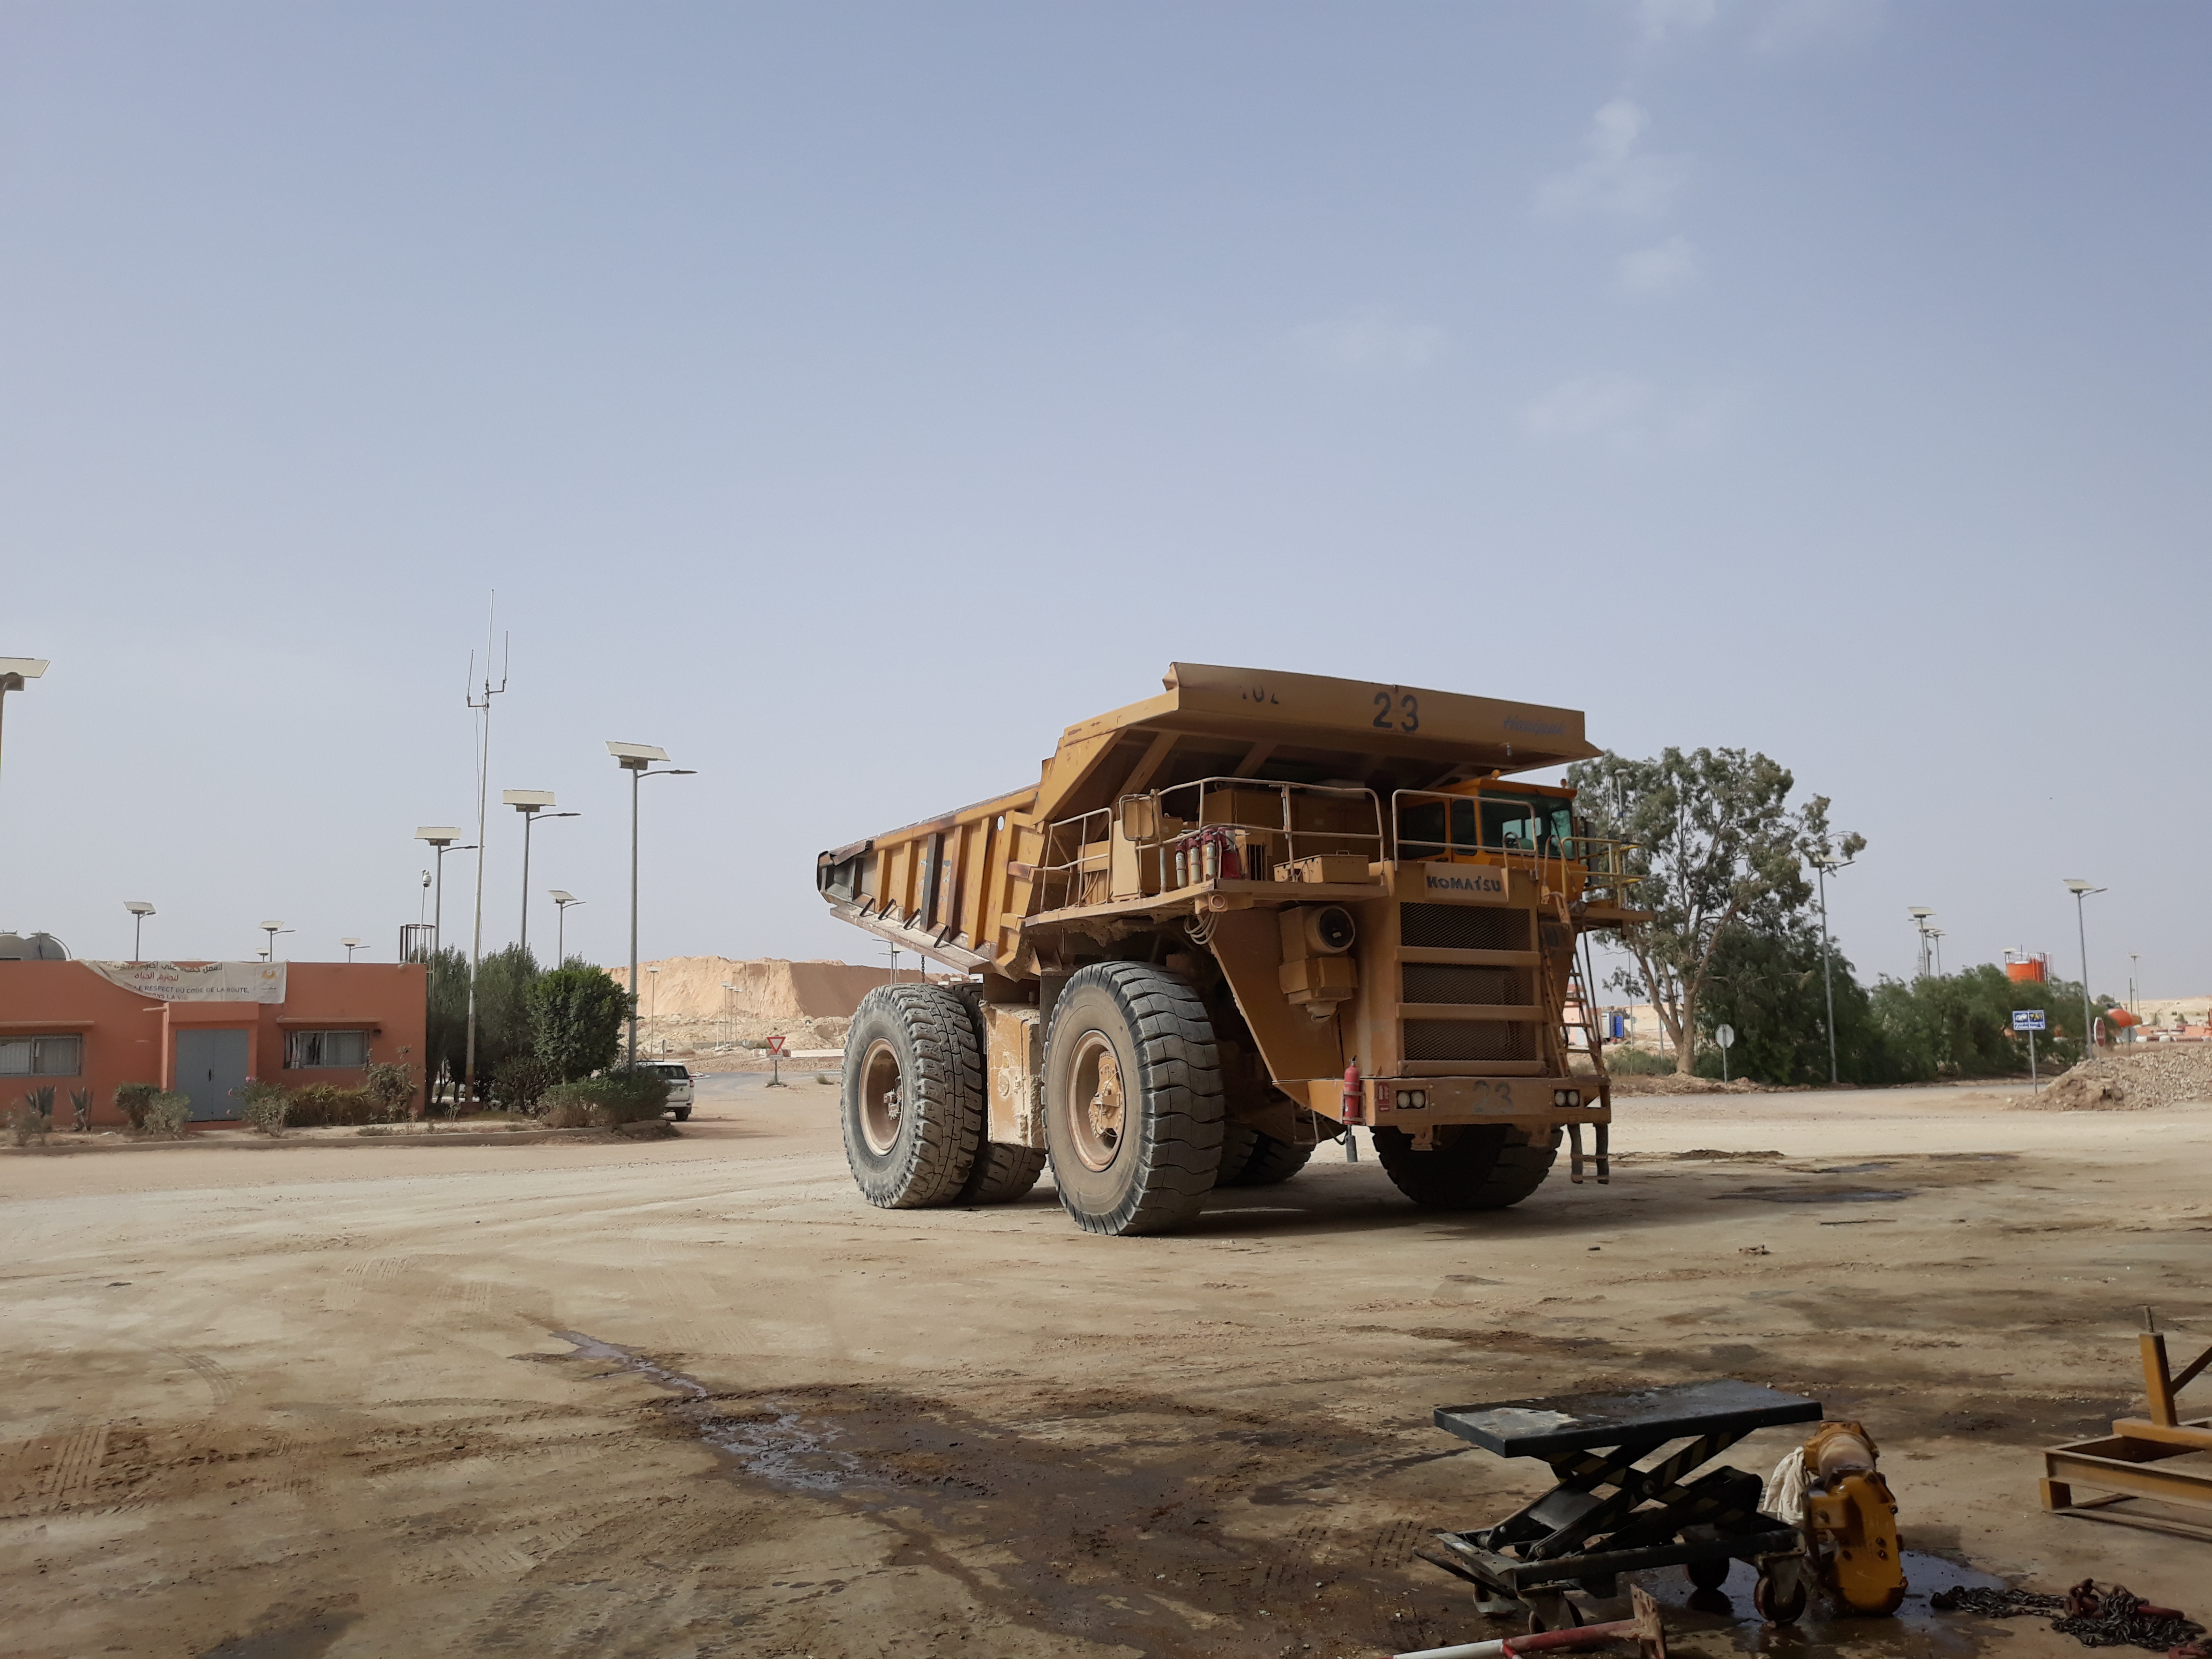camion: (806, 648, 1646, 1241)
car: (606, 1049, 711, 1141)
